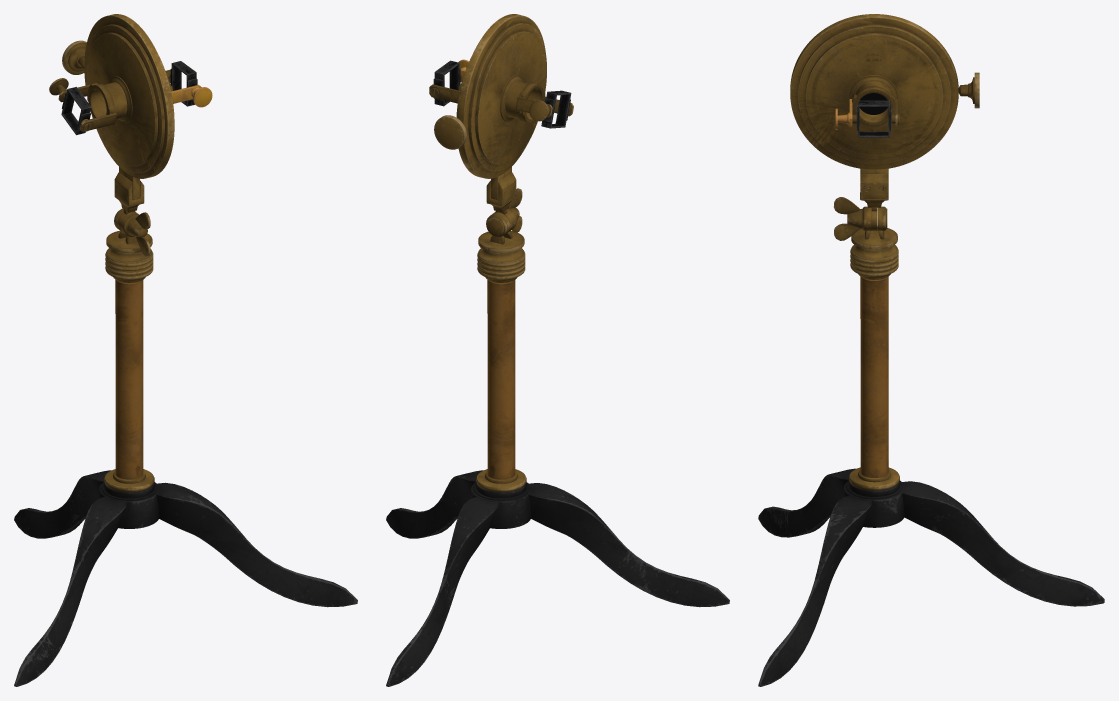
File: Polyarimetr.gltf
3 views of the same model, side by side, from view 1: azimuth 30°, elevation 25°; view 2: azimuth 150°, elevation 25°; view 3: azimuth 270°, elevation 25° (orthographic).
Visible parts, largest first — view 1: Ноль.1; view 2: Ноль.1; view 3: Ноль.1.
Part boxes in pixels (x1=…): Ноль.1: x1=14, y1=14, x2=357, y2=686; Ноль.1: x1=386, y1=14, x2=729, y2=686; Ноль.1: x1=758, y1=14, x2=1104, y2=686.
Size of the model in its own units: 156 by 254 by 136.
1 material, 1 textured.
